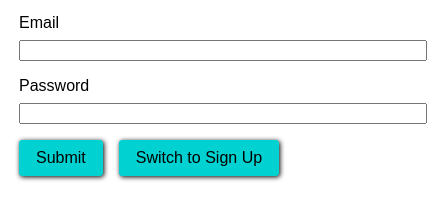
Test: Auth Component › Can change state to Sign In › it allows user to Sign Up instead of Login
The image size is (444, 198).
Click the button "Switch to Sign Up": (199, 158) [119,140,279,176]
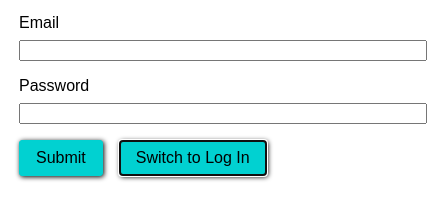
Expected: the button with test id "auth-selection" reads "Switch to Log In", [119,140,267,176]
